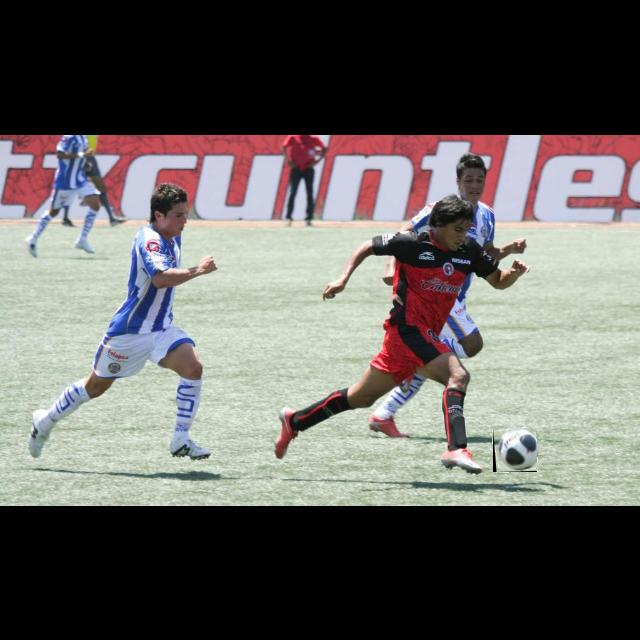Football: (493, 428, 537, 472)
